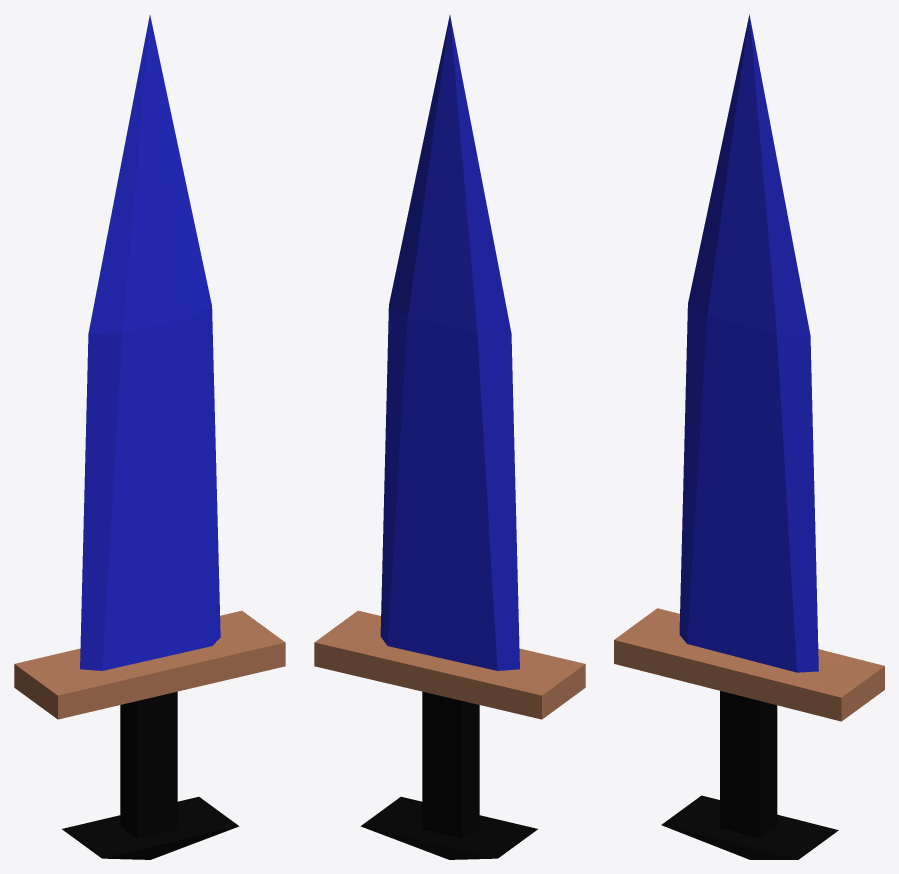
File: sword.glb
3 renders of one model, left to right at view 1: azimuth 30°, elevation 25°; view 2: azimuth 150°, elevation 25°; view 3: azimuth 330°, elevation 25°, orthographic.
Visible parts, largest first — view 1: Cube; view 2: Cube; view 3: Cube.
Part boxes in pixels (x1=…): Cube: x1=14, y1=15, x2=285, y2=859; Cube: x1=314, y1=15, x2=585, y2=859; Cube: x1=614, y1=14, x2=884, y2=859.
Size of the model in its own units: 0.7593 by 2.7 by 0.2509.
2 materials, 1 textured.
